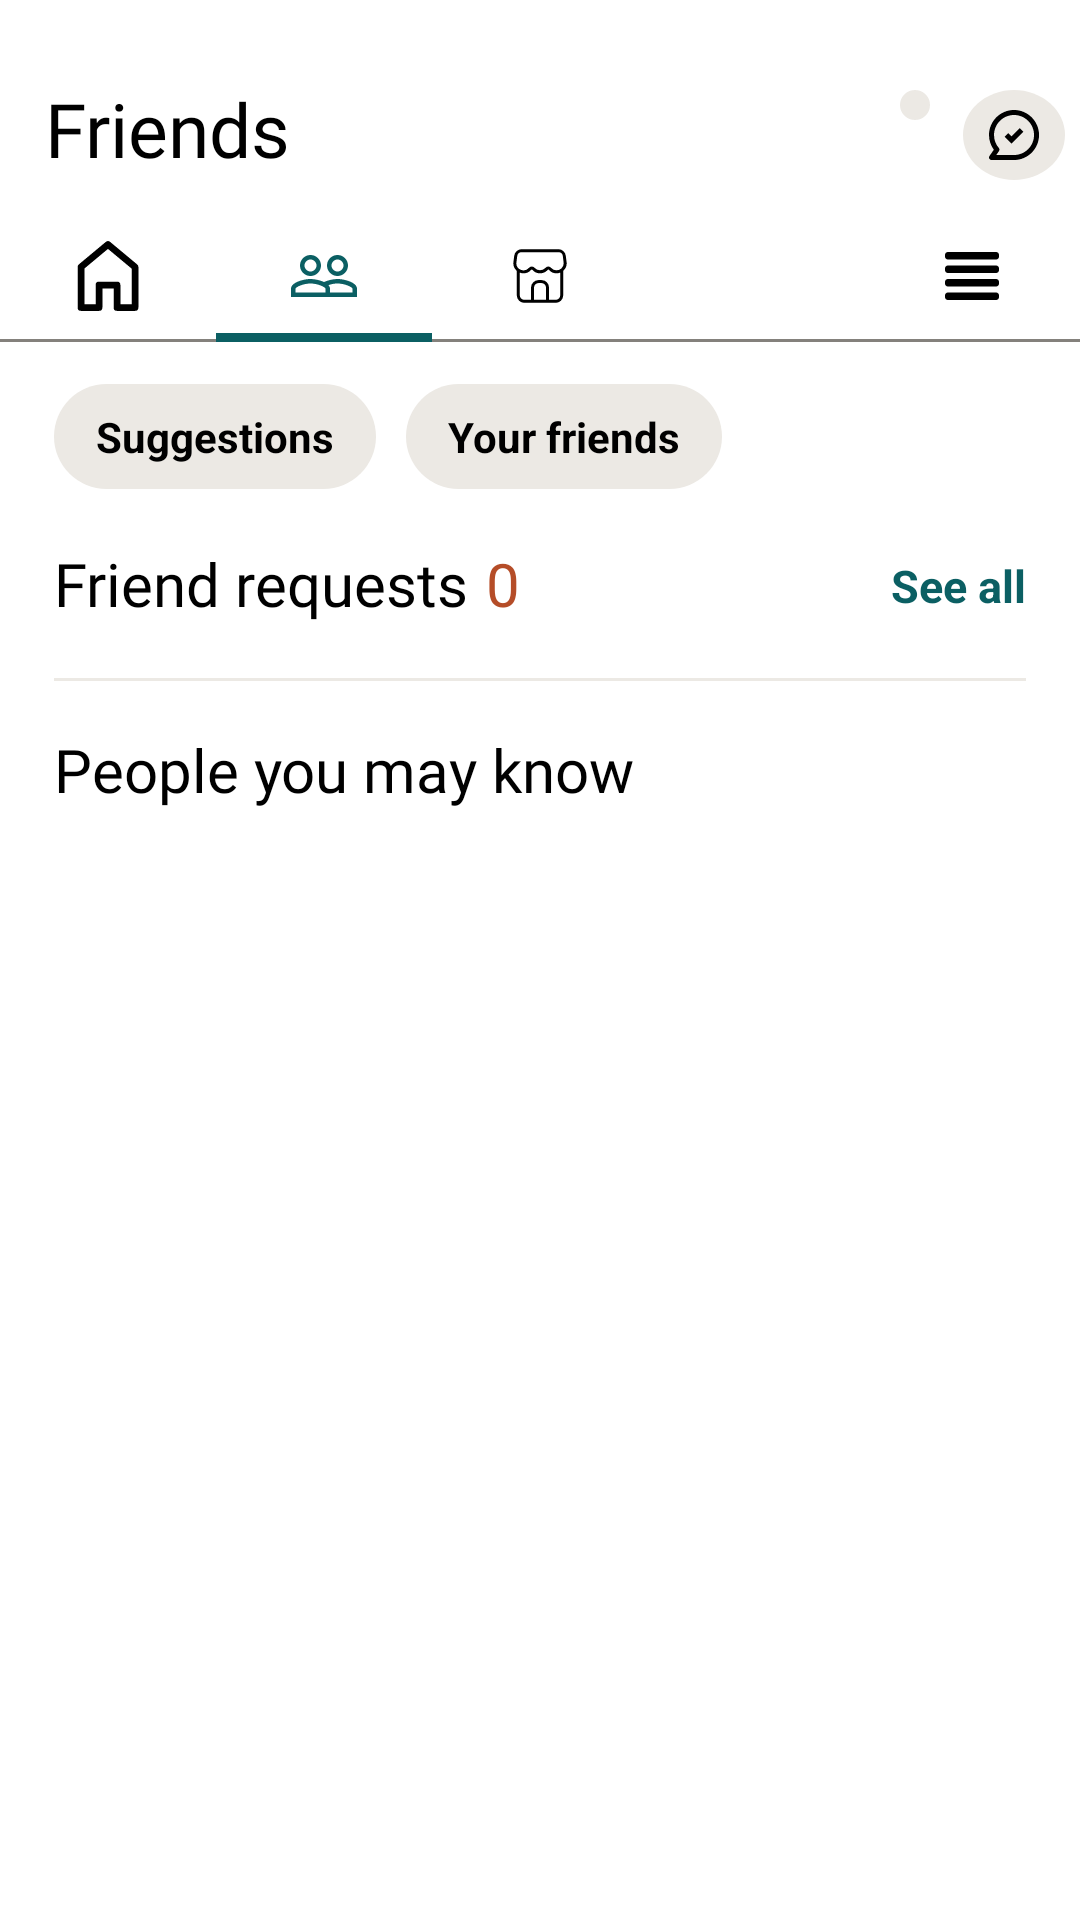

Icons on this 1080×1920 Android screen, each with the point to tap as [x,y]:
home icon: [108,276]
message icon: [1014,135]
more icon: [972,276]
shop icon: [540,276]
